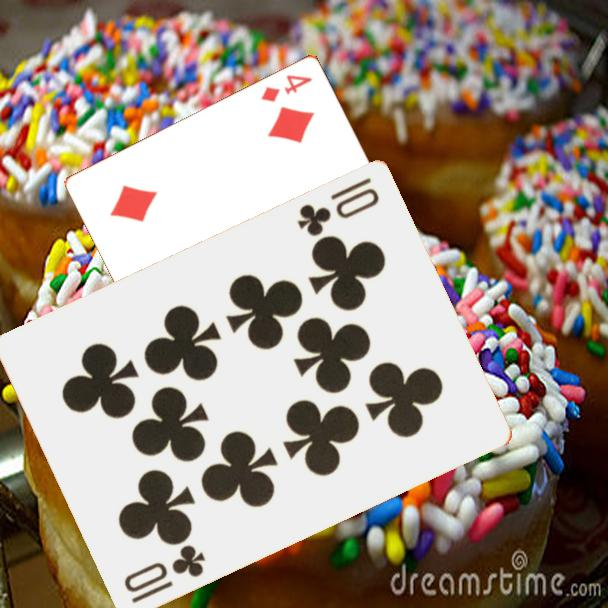c10: (293, 174, 382, 240), (120, 542, 209, 607)
d04: (258, 71, 315, 105)
